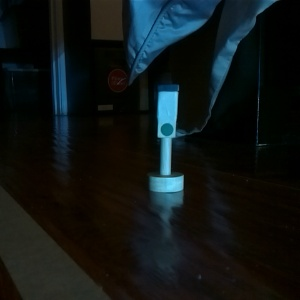traffic light green: (143, 81, 186, 194)
